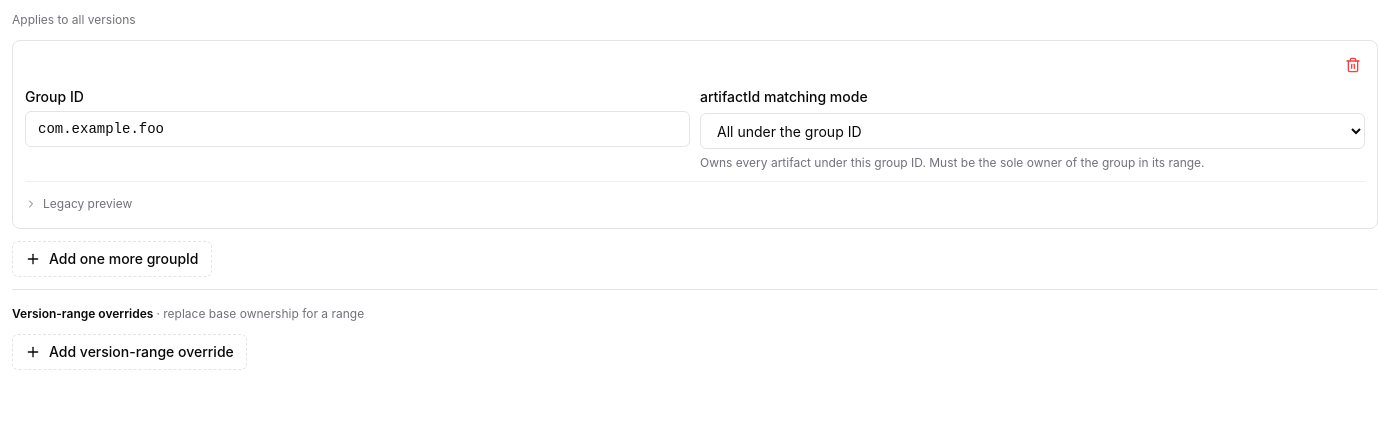
Scenario: ArtifactOwnershipEditor › legacy preview renders the catch-all for an ALL mapping
Click the button "Legacy preview".
click(79, 204)  # box [25,196,132,212]
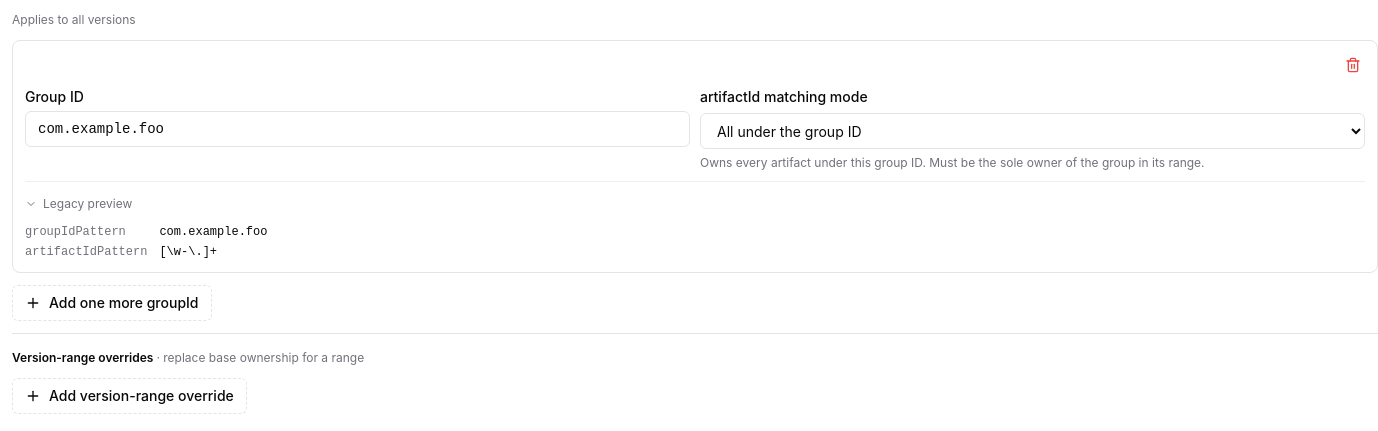
Now the text "[\\w-\\.]+" is shown, box [159,245,217,259]
